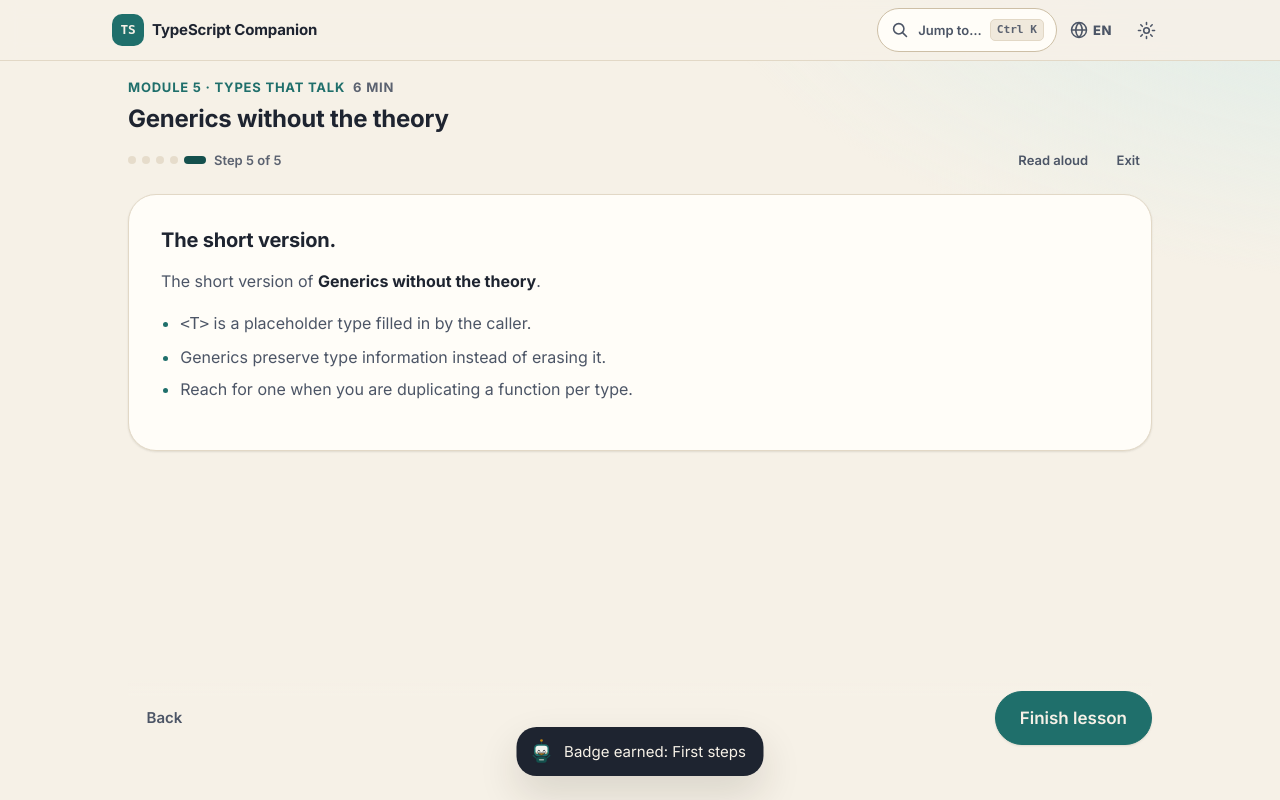
Test: bonus steps › are not counted in the lesson’s steps, and are offered from the summary
Click the button "Finish lesson" at (1073, 718), box [995, 691, 1152, 745]
(page scrolled)
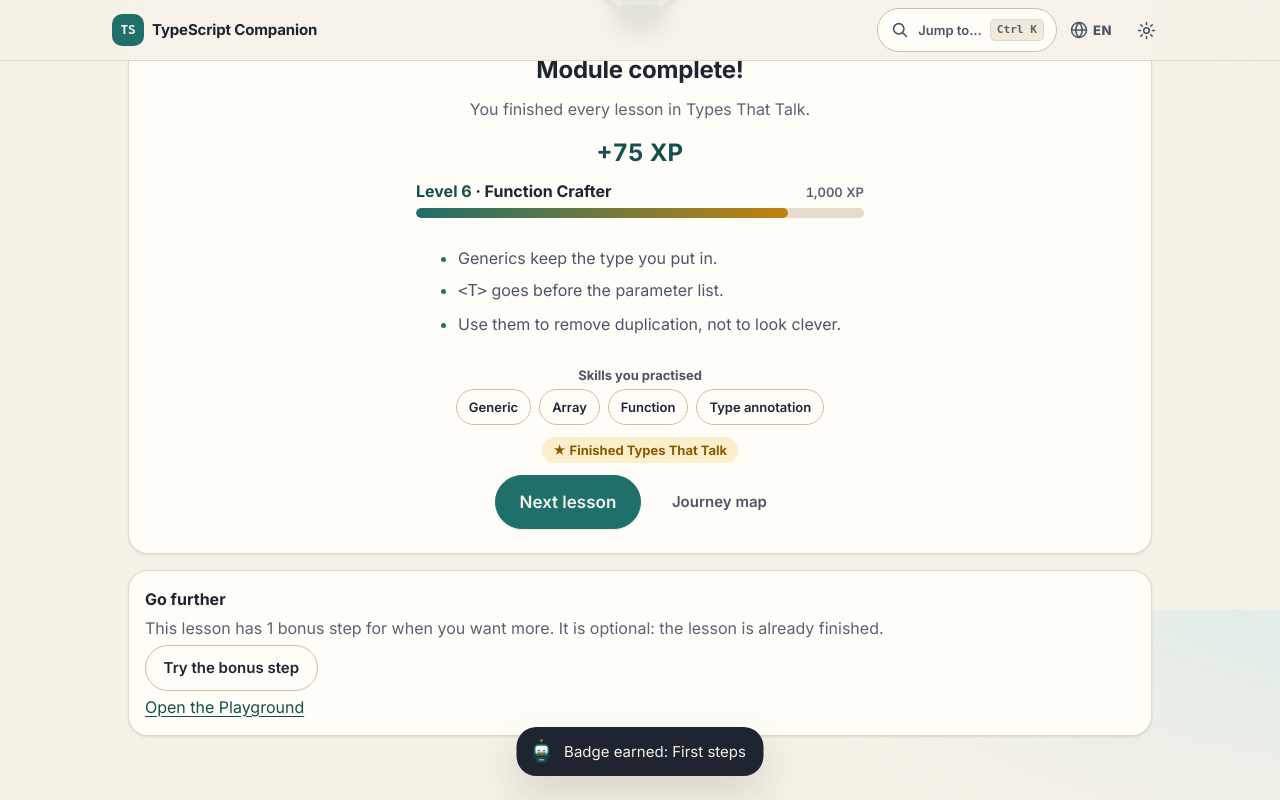
Click the button "Try the bonus step" at (231, 668), box [145, 645, 318, 691]
(page scrolled)
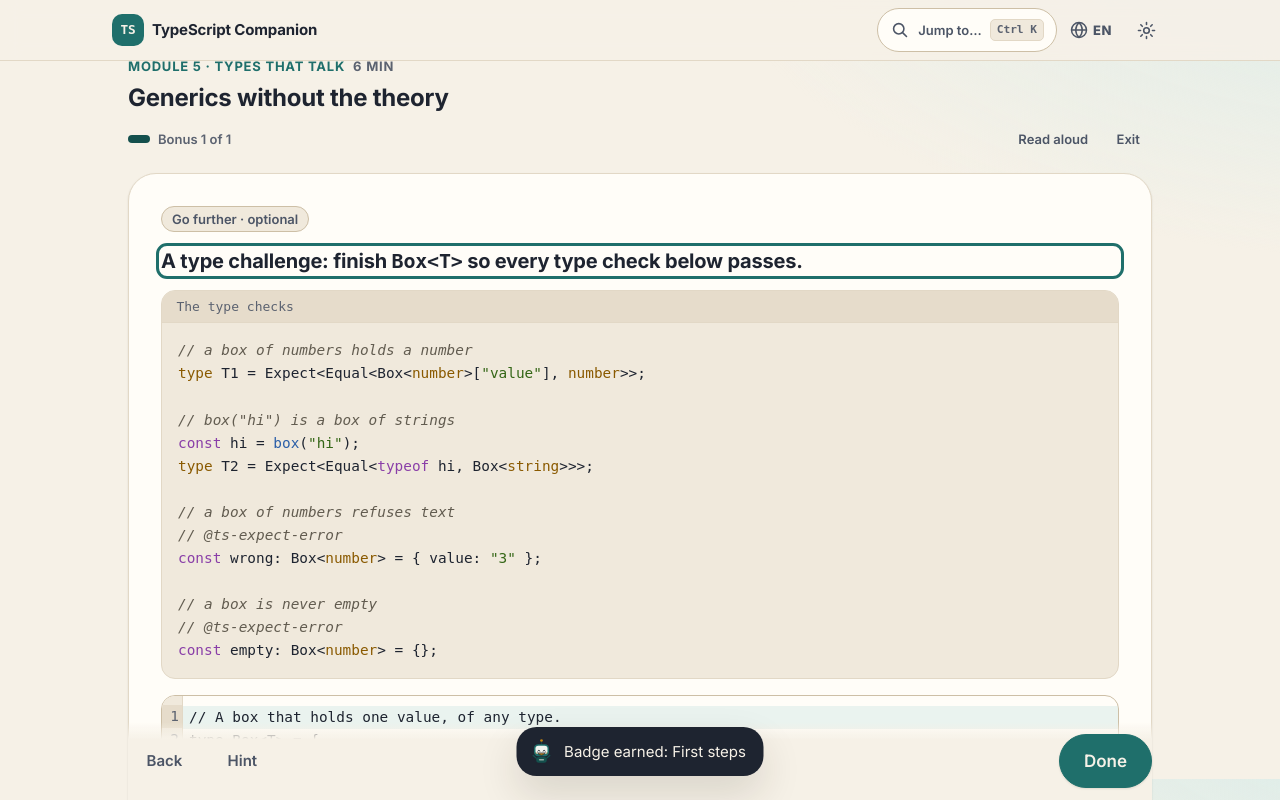
Expected: the text "Go further · optional" is shown, [161, 206, 309, 232]
Expected: the text "Bonus 1 of 1" is shown, [158, 129, 231, 149]
Expected: the text "The type checks" is shown, [176, 297, 294, 317]
Click the button "Back" at (164, 761), box [128, 738, 201, 784]
(page scrolled)
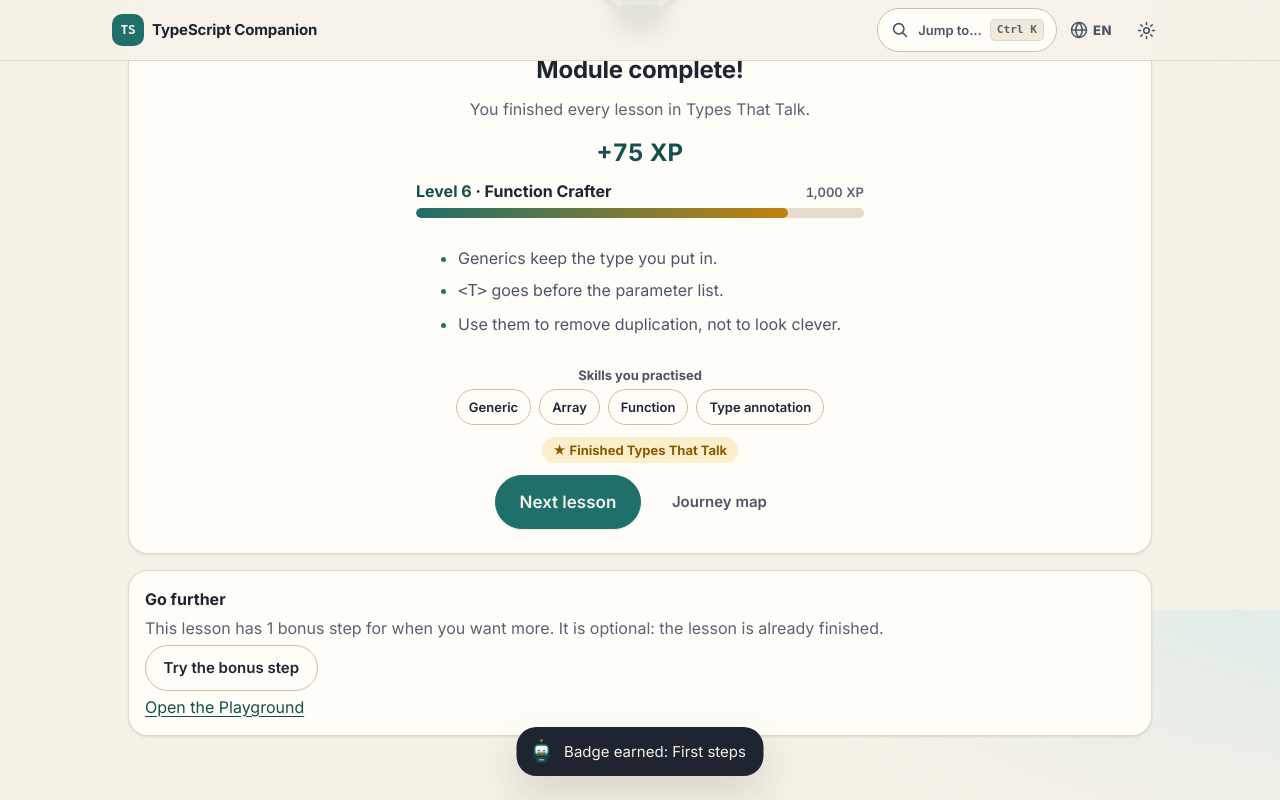
Click the button "Try the bonus step" at (231, 668), box [145, 645, 318, 691]
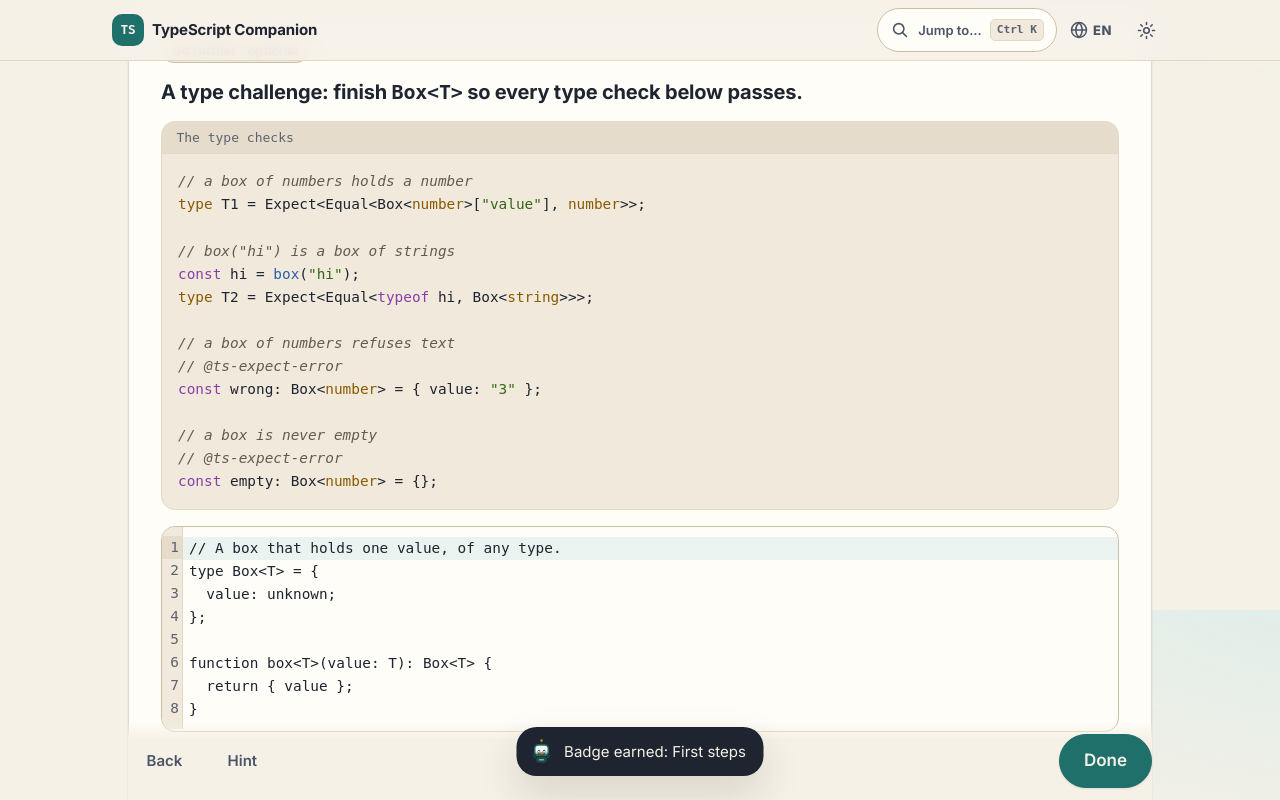
Click the button "Done" at (1105, 761), box [1059, 734, 1152, 788]
(page scrolled)
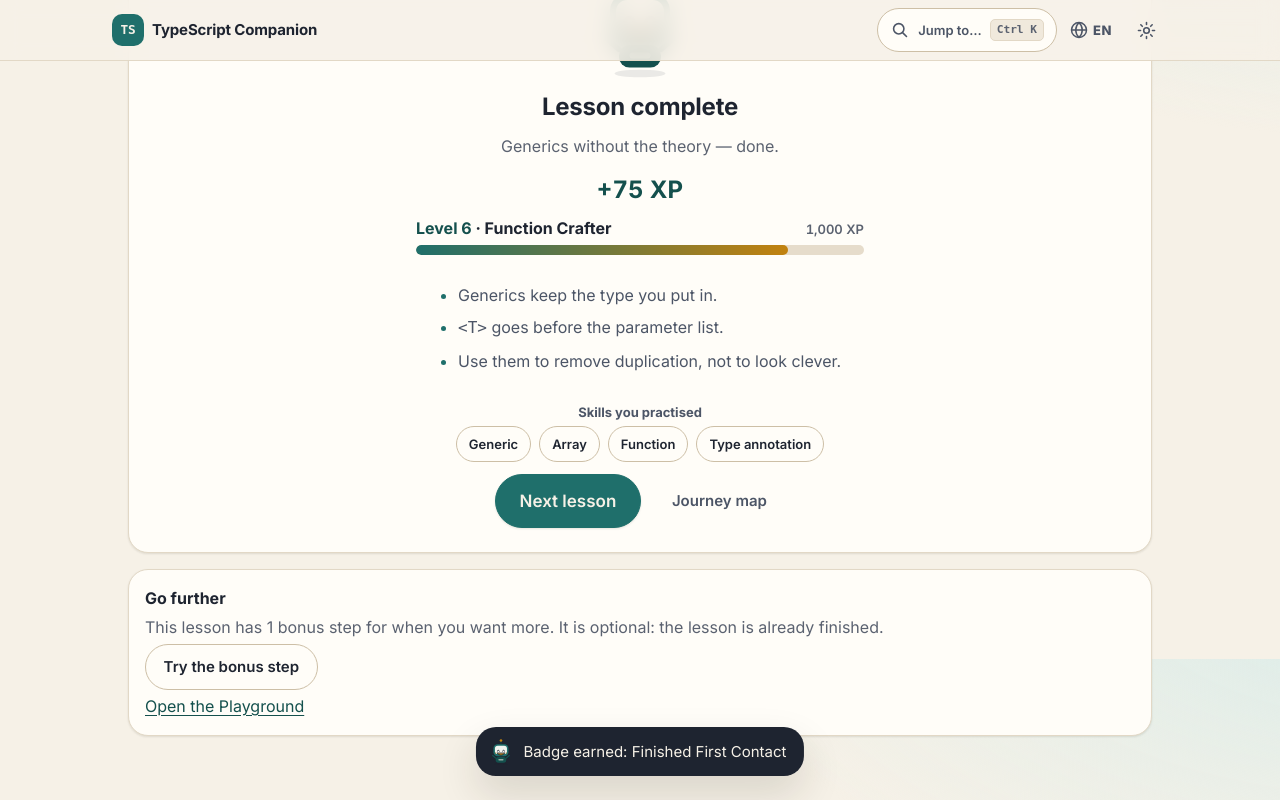
Expected: the button "Try the bonus step" is shown, [145, 644, 318, 690]
